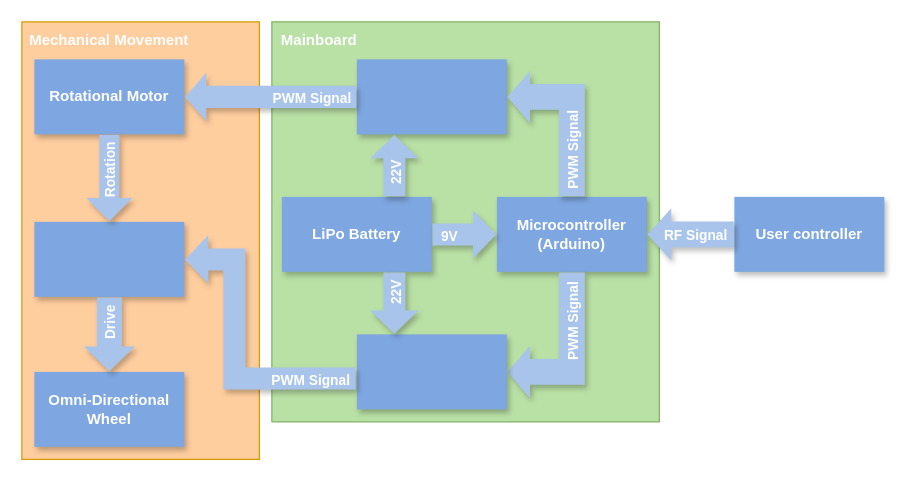
The diagram is 914 pixels wide and 481 high, and some of its shapes have lost their labels. The centre of each missing label's shape, as x and y in pixels:
"ESC" goes at point (432, 373).
"Main Drive motor" goes at point (110, 260).
"Motor Driver" goes at point (432, 98).
